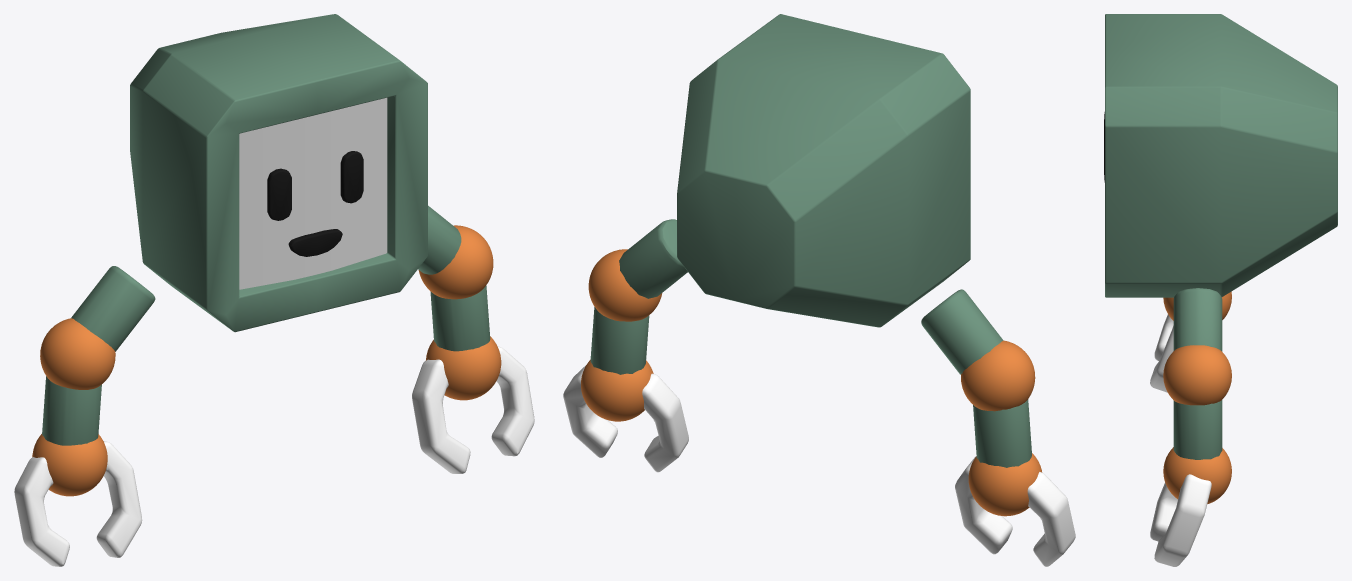
Rendered from TREA.fbx.
3 views of the same model, side by side, from view 1: azimuth 30°, elevation 25°; view 2: azimuth 150°, elevation 25°; view 3: azimuth 270°, elevation 25° (orthographic). The views are drawn at different scales.
Parts seen in each view (by area): view 1: TREA, TREA.Arms; view 2: TREA, TREA.Arms; view 3: TREA, TREA.Arms.
Boxes of the visible parts, x1,y1,x2,y2 form: TREA: (130, 14, 427, 332); TREA.Arms: (14, 205, 534, 566); TREA: (677, 14, 970, 327); TREA.Arms: (563, 219, 1075, 566); TREA: (1104, 14, 1337, 297); TREA.Arms: (1150, 288, 1231, 566).
Size of the model in its own units: 121 by 106 by 53.75.
